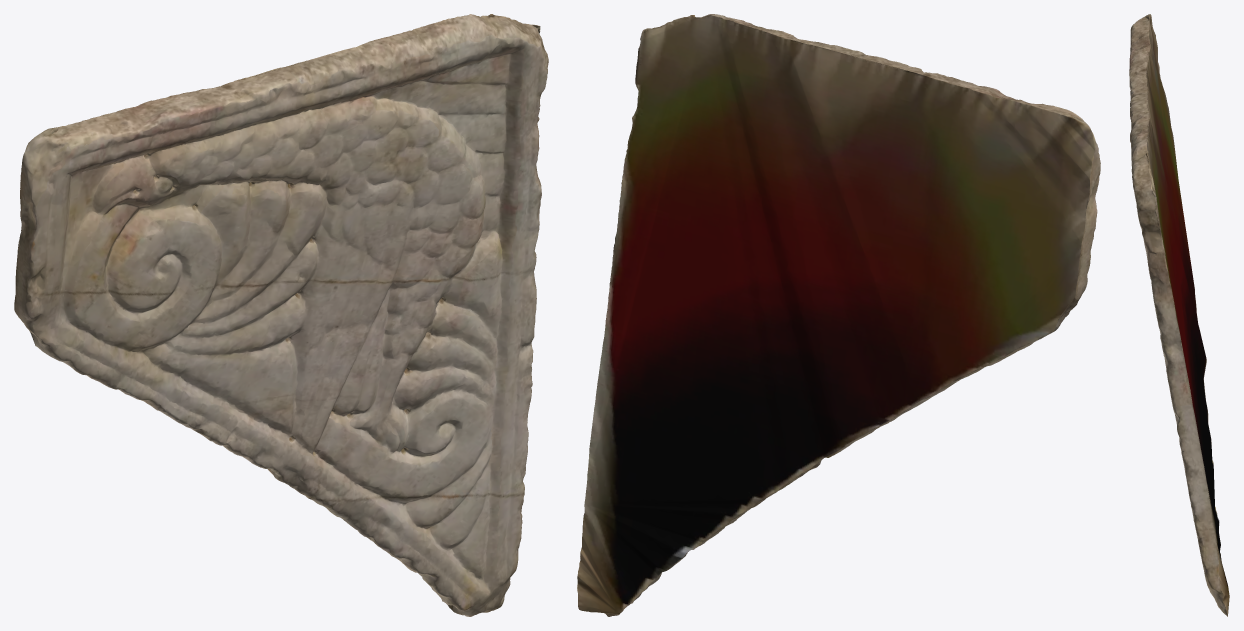
File: preview.glb
The picture shows the model from 3 angles, left to right: view 1: azimuth 30°, elevation 25°; view 2: azimuth 150°, elevation 25°; view 3: azimuth 270°, elevation 25°; orthographic projection. The views are drawn at different scales.
Parts seen in each view (by area): view 1: Polygonal_Model_1_ADVIMG_25_120_1007_SpandrelWithABird_Copy_; view 2: Polygonal_Model_1_ADVIMG_25_120_1007_SpandrelWithABird_Copy_; view 3: Polygonal_Model_1_ADVIMG_25_120_1007_SpandrelWithABird_Copy_.
Boxes of the visible parts, x1=… form: Polygonal_Model_1_ADVIMG_25_120_1007_SpandrelWithABird_Copy_: x1=14, y1=14, x2=548, y2=616; Polygonal_Model_1_ADVIMG_25_120_1007_SpandrelWithABird_Copy_: x1=577, y1=14, x2=1100, y2=616; Polygonal_Model_1_ADVIMG_25_120_1007_SpandrelWithABird_Copy_: x1=1129, y1=14, x2=1229, y2=616.
Bounding box in the file's own units: 0.3789 × 0.4423 × 0.0904.
1 material, 1 textured.
